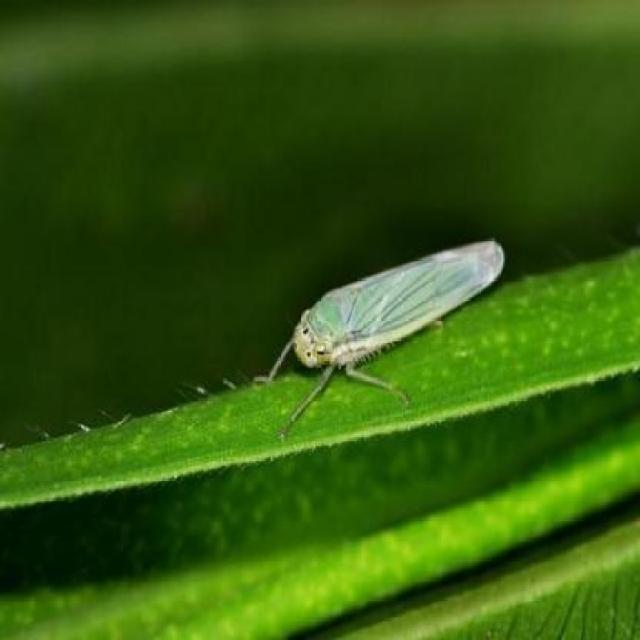green-leafhopper: (272, 236, 511, 430)
